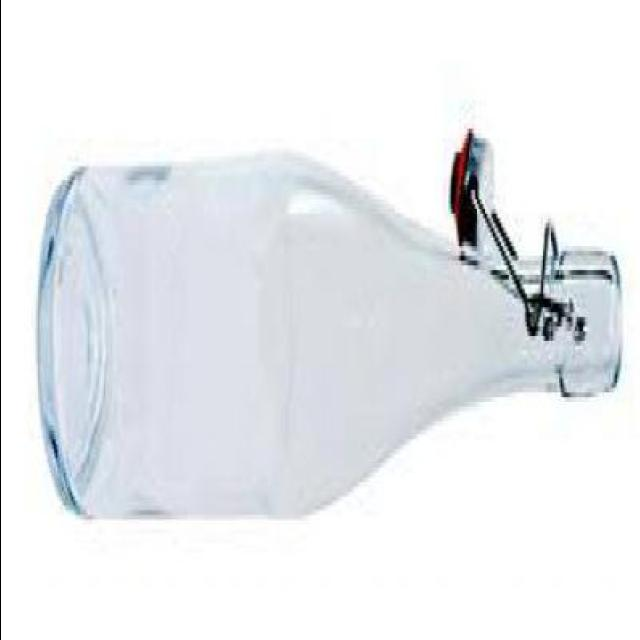kaca: (37, 175, 622, 524)
